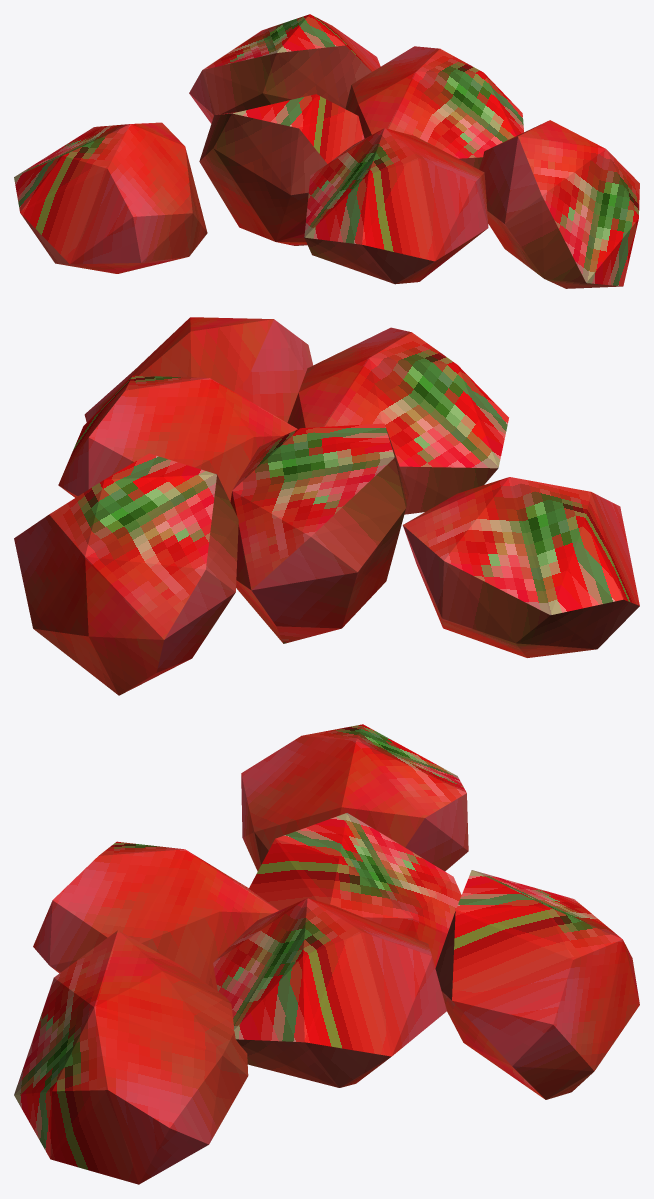
The model's file is pile-tomato.glb.
3 views of the same model, one above another, from view 1: azimuth 30°, elevation 25°; view 2: azimuth 150°, elevation 25°; view 3: azimuth 270°, elevation 25° (orthographic). The views are drawn at different scales.
Parts seen in each view (by area): view 1: pile-tomato; view 2: pile-tomato; view 3: pile-tomato.
Boxes of the visible parts, box(x1,y1,x2,y2) form: pile-tomato: box(14, 14, 639, 288); pile-tomato: box(14, 317, 639, 695); pile-tomato: box(14, 724, 639, 1184).
Bounding box in the file's own units: 0.6073 × 0.197 × 0.5089.
1 material, 1 textured.
